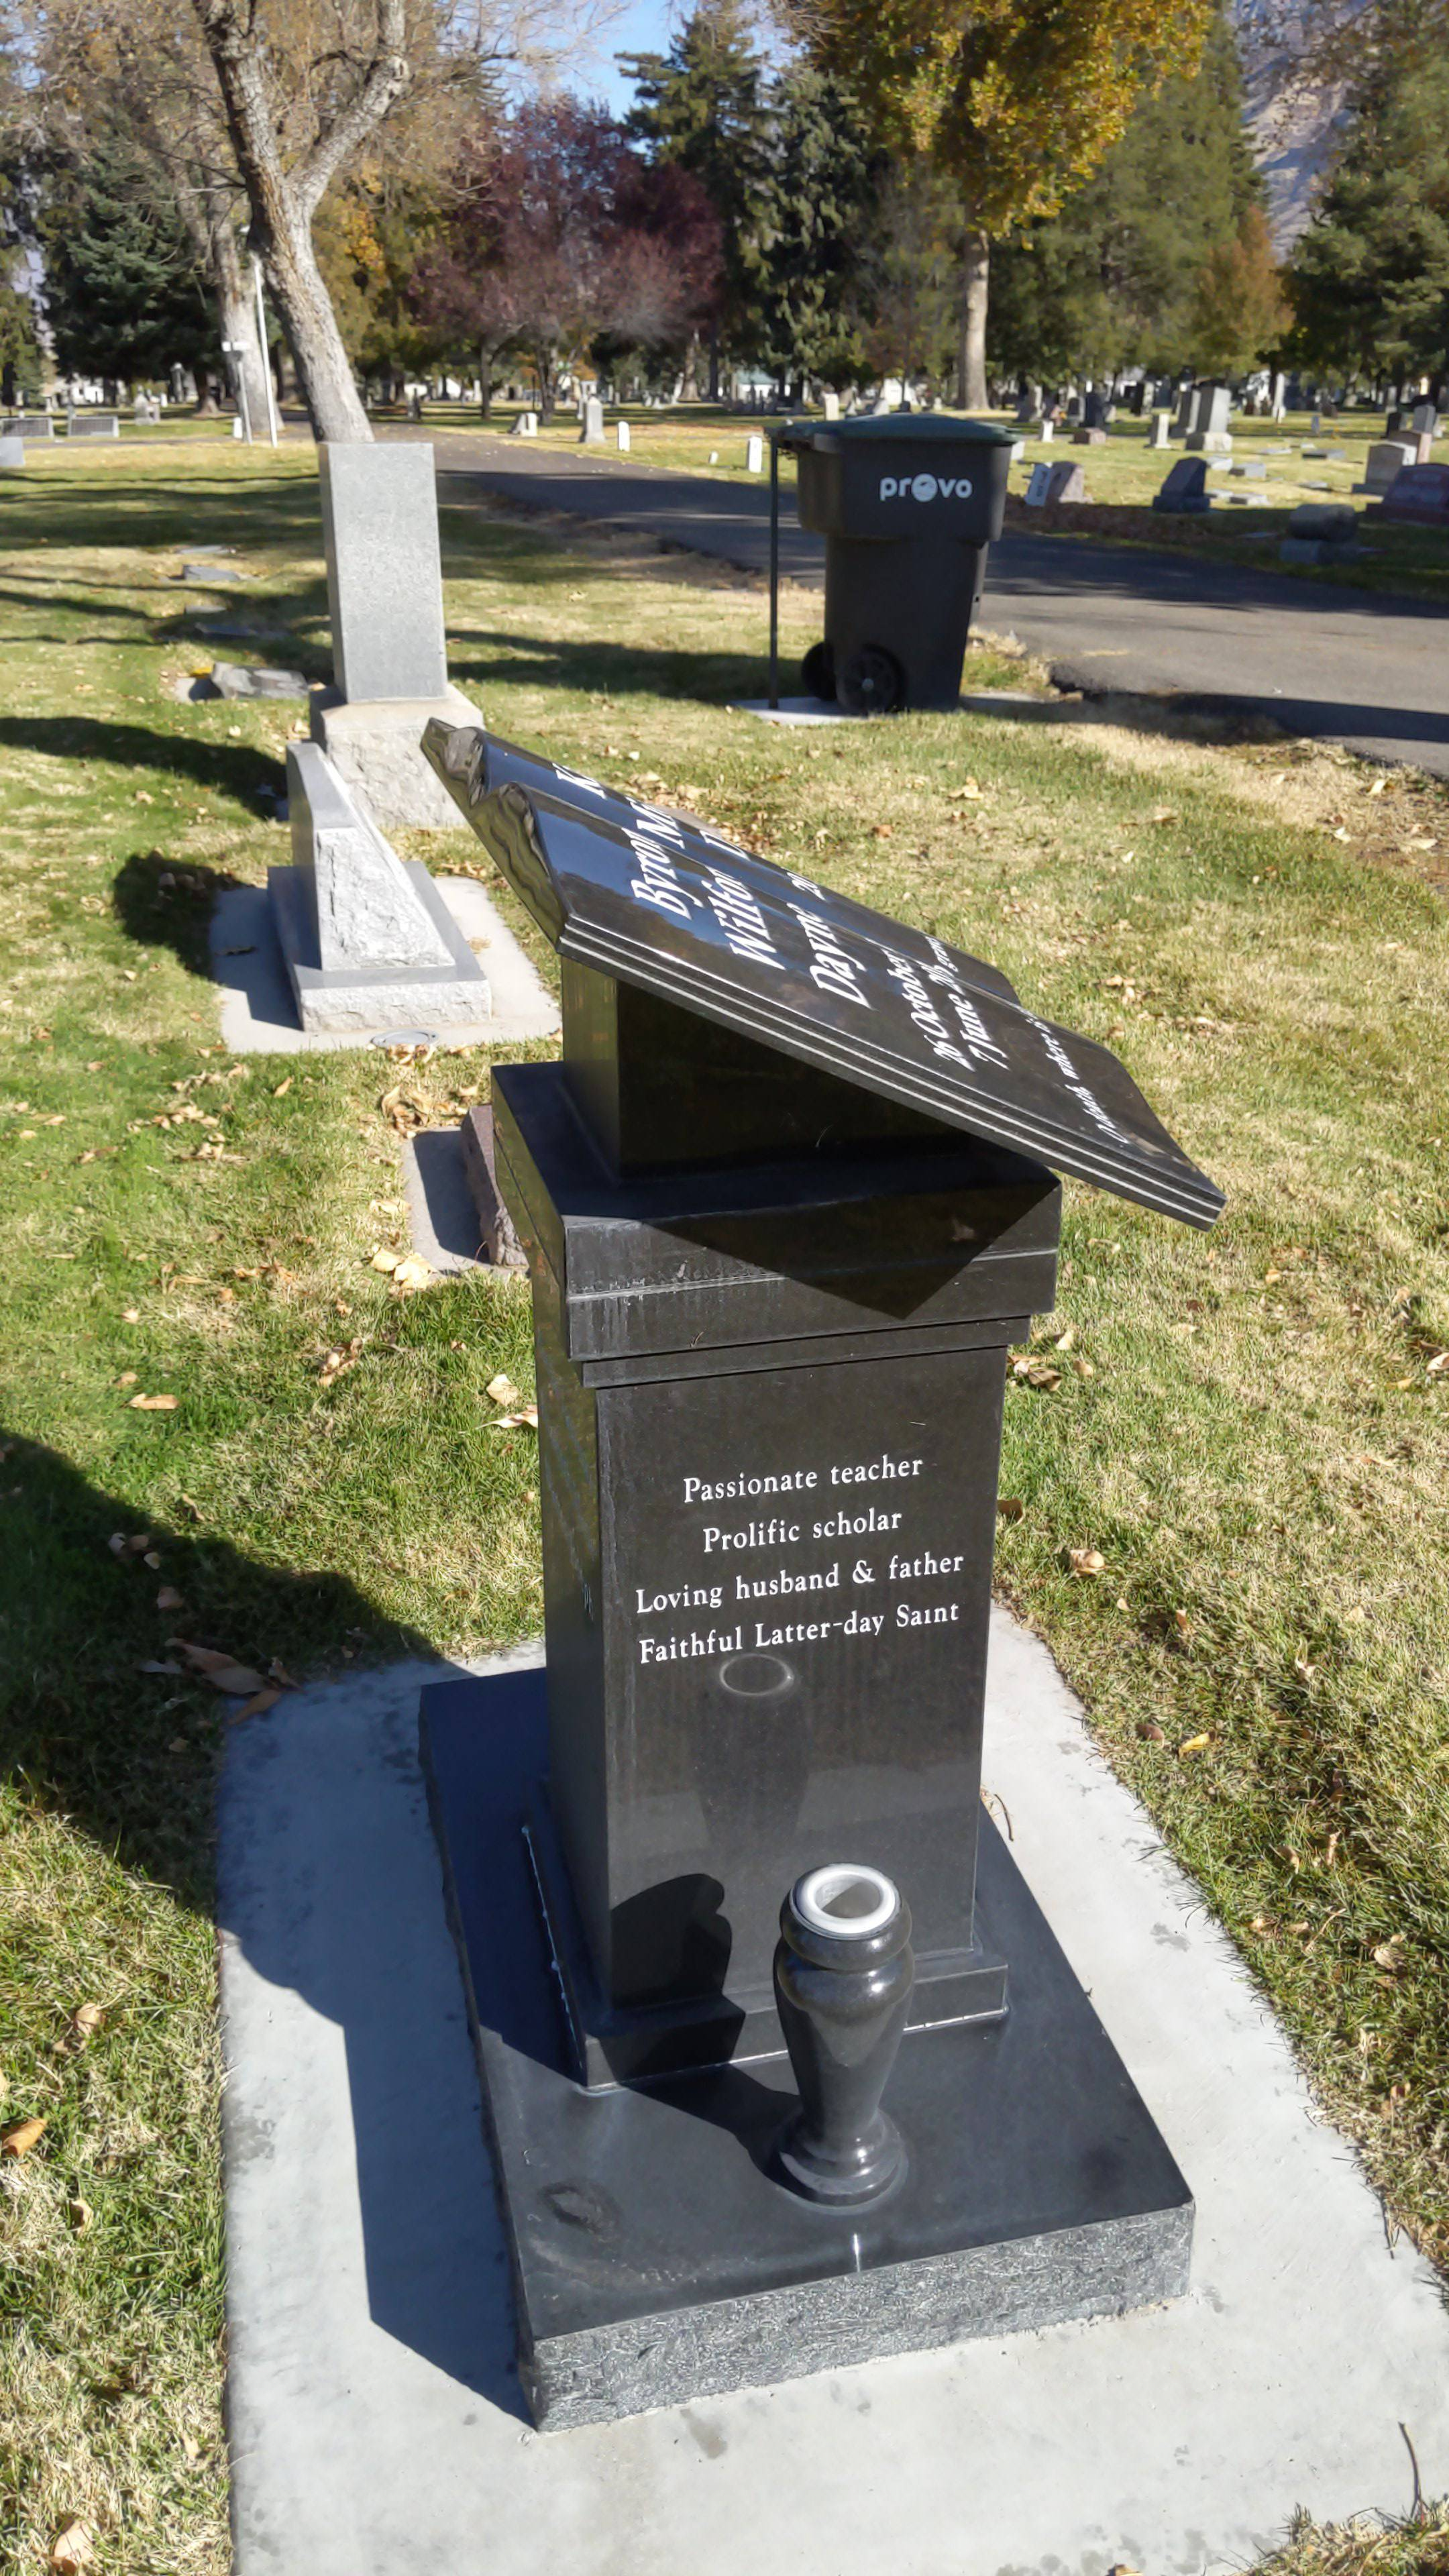obelisk: (416, 722, 1223, 2429)
